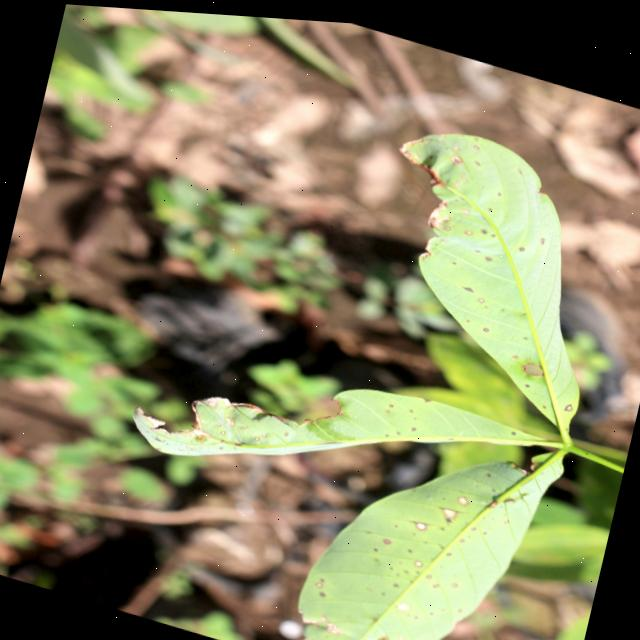Colletotrichum: (414, 514, 427, 525), (564, 393, 574, 404), (413, 552, 423, 561), (482, 319, 488, 324), (478, 290, 484, 295), (518, 238, 524, 243), (253, 432, 260, 436), (262, 429, 266, 432)
